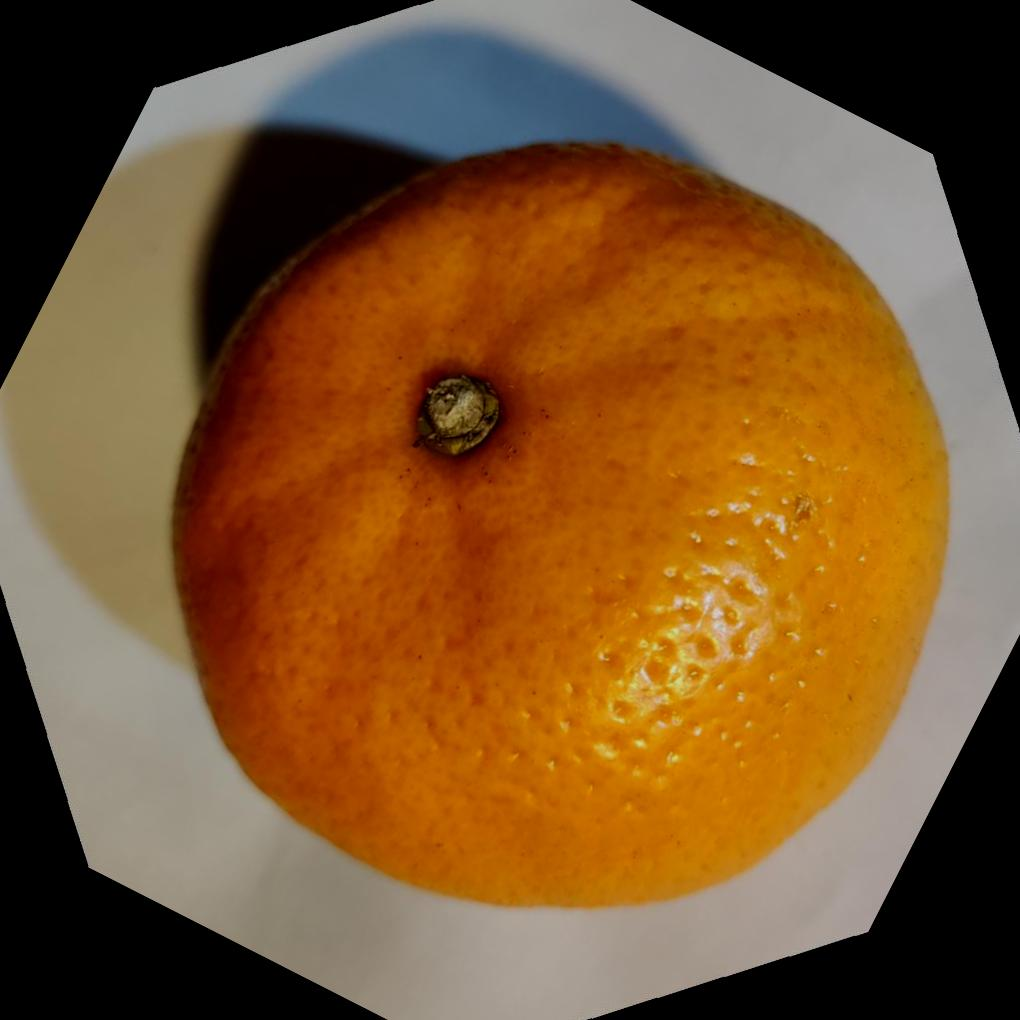FreshGuava: (170, 138, 955, 925)
